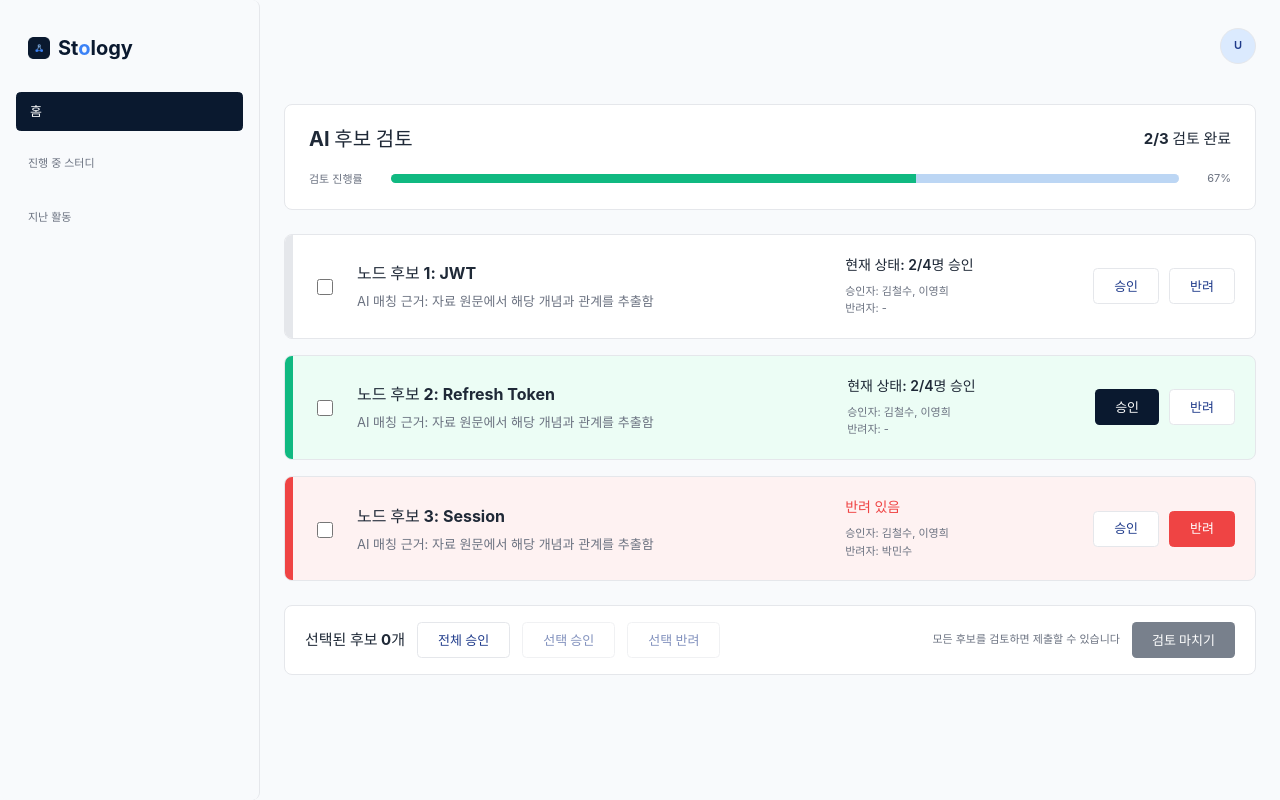
Test: ReviewPage › 선택한 후보만 일괄 반려한다
This screenshot has width=1280, height=800.
Click the checkbox named "JWT 후보 선택".
click(325, 287)  # box [317,279,333,295]
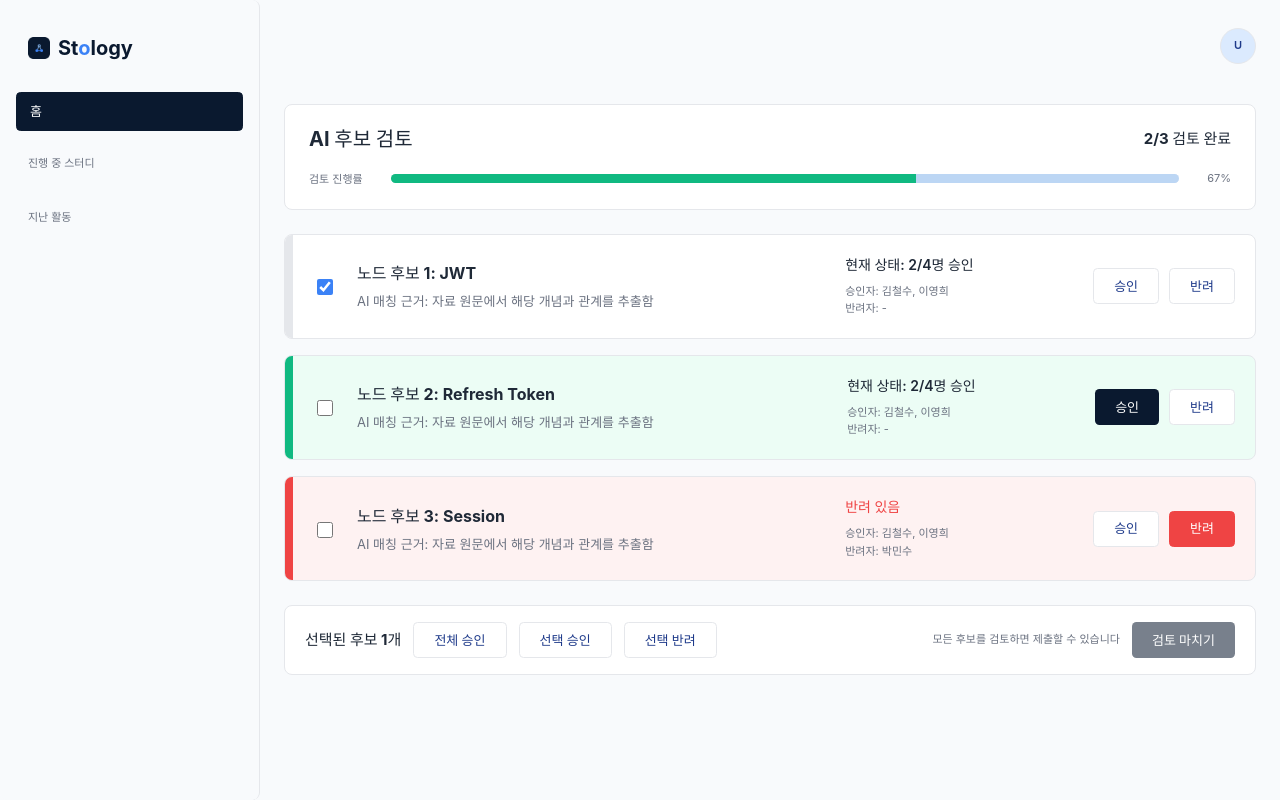
Click the button "선택 반려".
click(670, 640)  # box [624,622,717,658]
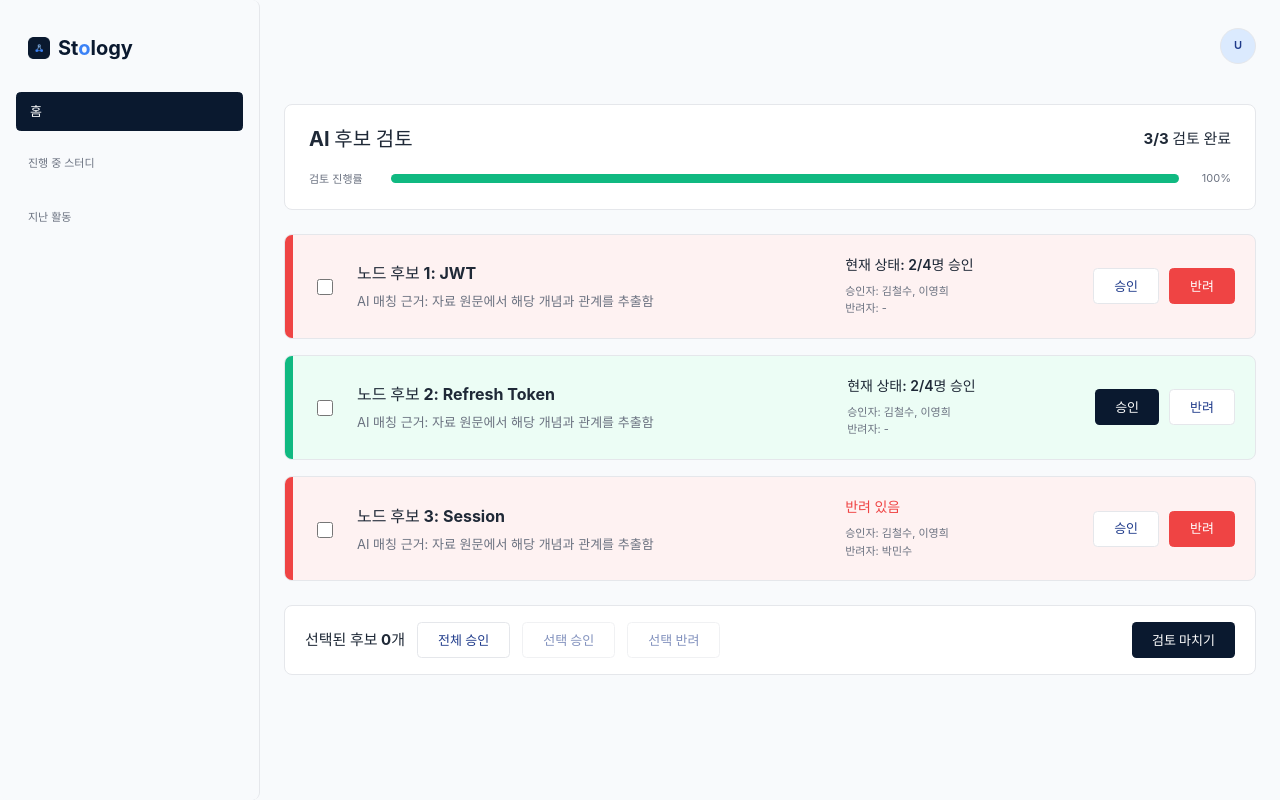
Check: the text "3/3 검토 완료" is shown, box [1144,127,1231,151]
